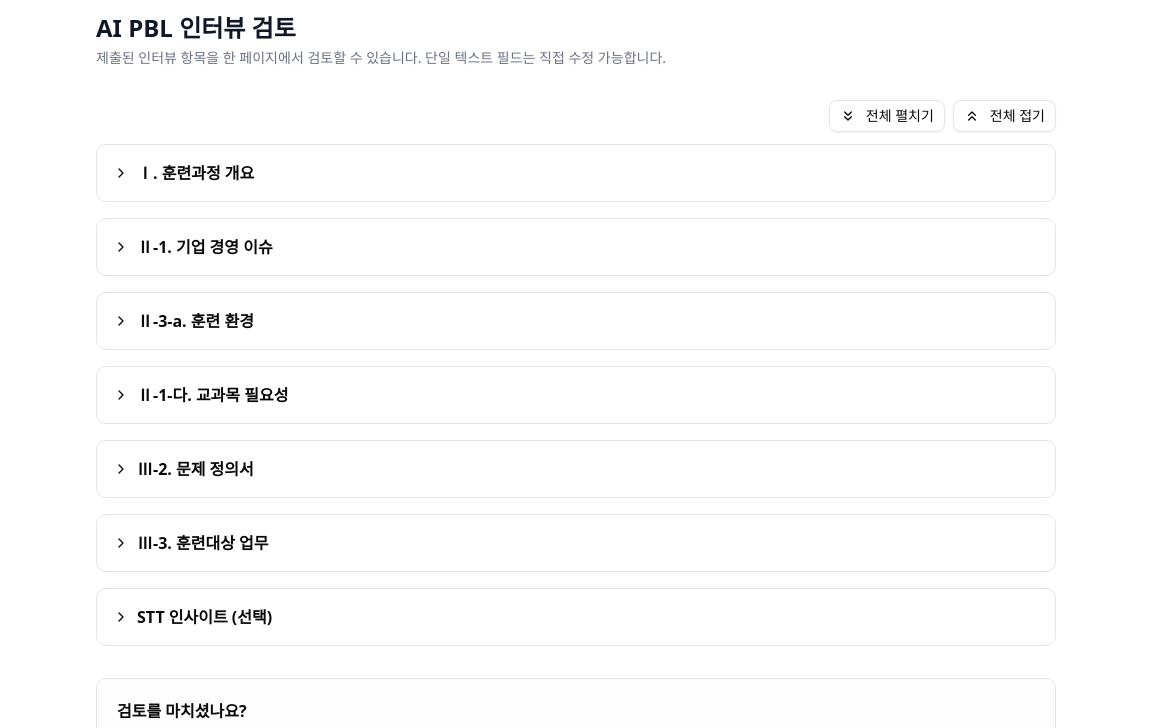
Test: InterviewReviewClient › PBL 트랙 › PBL: sttInsights 가 채워졌으면 "STT 인사이트 (선택)" 섹션과 6 카테고리 카드가 노출된다
Click the button "STT 인사이트 (선택)" at (205, 617), box [113,605,1039,629]
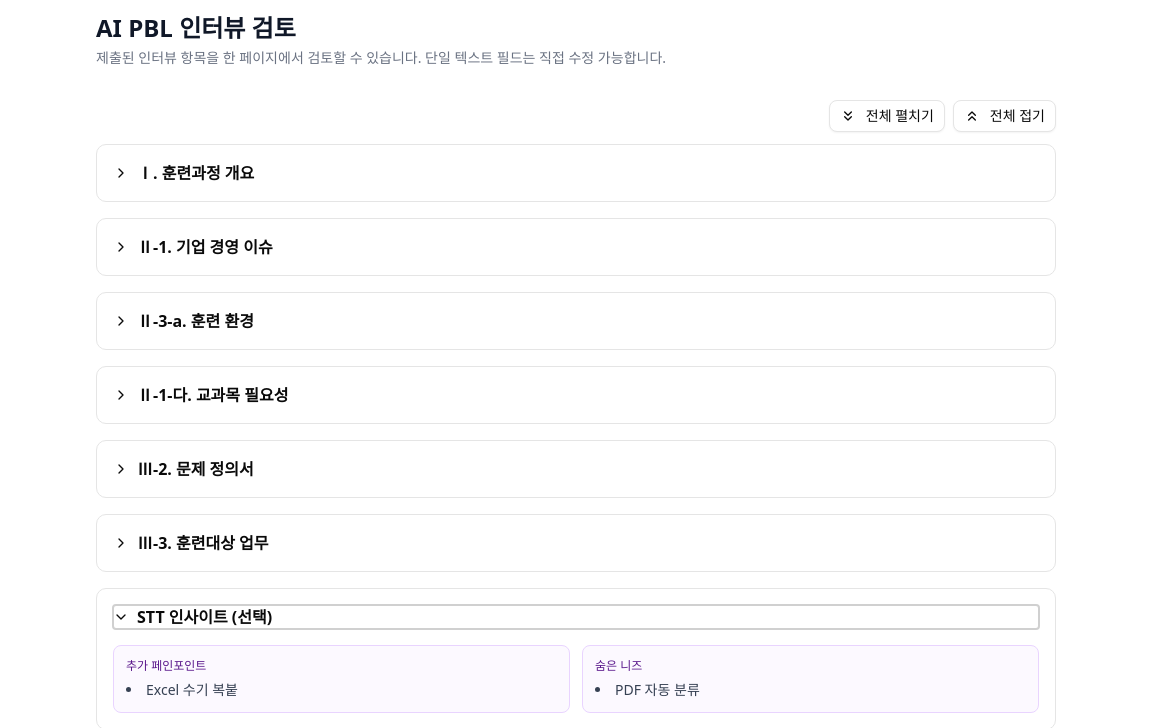
Now the text "추가 페인포인트" is shown, box [126,657,206,674]
Now the list item "Excel 수기 복붙" is shown, box [146,680,238,699]
Now the text "숨은 니즈" is shown, box [595,657,642,674]
